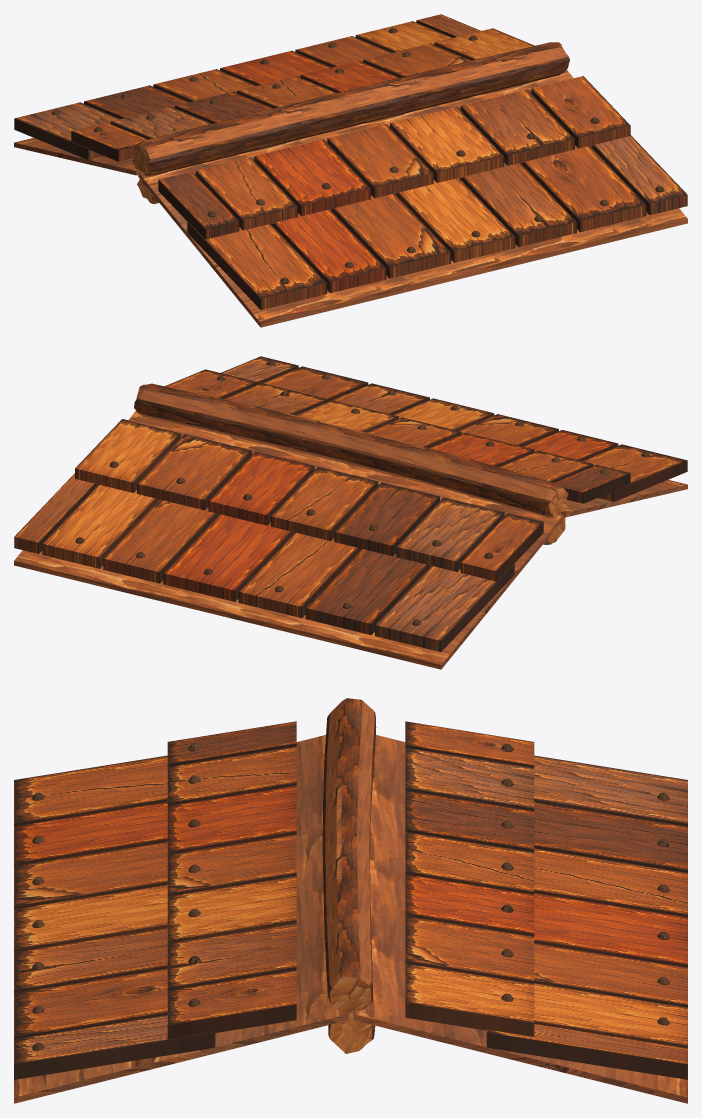
Rendered from roof_26_ridge__plank_root.glb.
3 views of the same model, one above another, from view 1: azimuth 30°, elevation 25°; view 2: azimuth 150°, elevation 25°; view 3: azimuth 270°, elevation 25° (orthographic). The views are drawn at different scales.
Parts seen in each view (by area): view 1: model; view 2: model; view 3: model.
Boxes of the visible parts, <box> form: model: <box>14,14,687,327</box>; model: <box>14,356,687,669</box>; model: <box>14,698,687,1103</box>.
Bounding box in the file's own units: 1.99 × 0.4212 × 1.99.
17 materials, 17 textured.
